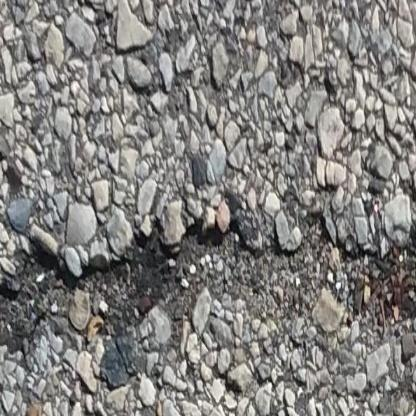Cracks: (0, 190, 416, 369)
